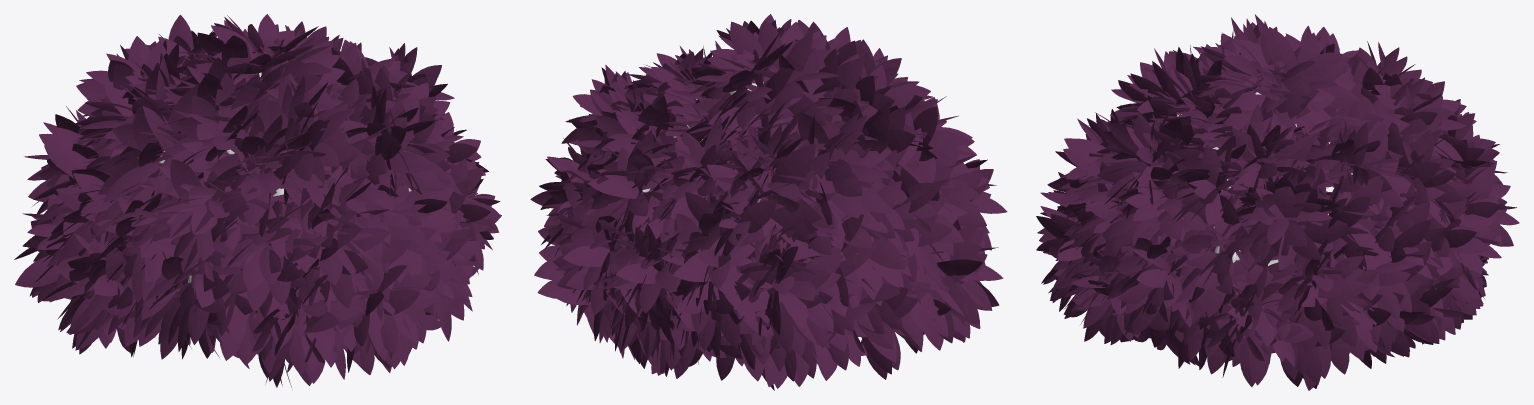
File: พุ่มไม้ม่วง.fbx
3 renders of one model, left to right at view 1: azimuth 30°, elevation 25°; view 2: azimuth 150°, elevation 25°; view 3: azimuth 270°, elevation 25°, orthographic. The views are drawn at different scales.
Visible parts, largest first — view 1: ทรงกลม|Plane.001|Dupli|1525, ทรงกลม|Plane.001|Dupli|1554, ทรงกลม|Plane.001|Dupli|1372, ทรงกลม|Plane.001|Dupli|1454, ทรงกลม|Plane.001|Dupli|552, ทรงกลม|Plane.001|Dupli|565, ทรงกลม|Plane.001|Dupli|634, ทรงกลม|Plane.001|Dupli|620, ทรงกลม|Plane.001|Dupli|1367, ทรงกลม|Plane.001|Dupli|1414, ทรงกลม|Plane.001|Dupli|1380, ทรงกลม|Plane.001|Dupli|1388 (+84 smaller); view 2: ทรงกลม|Plane.001|Dupli|1357, ทรงกลม|Plane.001|Dupli|1439, ทรงกลม|Plane.001|Dupli|1410, ทรงกลม|Plane.001|Dupli|1727, ทรงกลม|Plane.001|Dupli|1246, ทรงกลม|Plane.001|Dupli|1244, ทรงกลม|Plane.001|Dupli|1725, ทรงกลม|Plane.001|Dupli|1723, ทรงกลม|Plane.001|Dupli|1296, ทรงกลม|Plane.001|Dupli|1321, ทรงกลม|Plane.001|Dupli|1434, ทรงกลม|Plane.001|Dupli|1436 (+86 smaller); view 3: ทรงกลม|Plane.001|Dupli|1588, ทรงกลม|Plane.001|Dupli|1212, ทรงกลม|Plane.001|Dupli|319, ทรงกลม|Plane.001|Dupli|1587, ทรงกลม|Plane.001|Dupli|1576, ทรงกลม|Plane.001|Dupli|1672, ทรงกลม|Plane.001|Dupli|1715, ทรงกลม|Plane.001|Dupli|169, ทรงกลม|Plane.001|Dupli|1713, ทรงกลม|Plane.001|Dupli|1230, ทรงกลม|Plane.001|Dupli|1200, ทรงกลม|Plane.001|Dupli|1586 (+79 smaller).
Part boxes in pixels (x1=…): ทรงกลม|Plane.001|Dupli|1525: x1=98, y1=109, x2=184, y2=194; ทรงกลม|Plane.001|Dupli|1554: x1=44, y1=145, x2=90, y2=234; ทรงกลม|Plane.001|Dupli|1372: x1=330, y1=227, x2=390, y2=308; ทรงกลม|Plane.001|Dupli|1454: x1=66, y1=243, x2=130, y2=352; ทรงกลม|Plane.001|Dupli|552: x1=149, y1=159, x2=201, y2=243; ทรงกลม|Plane.001|Dupli|565: x1=112, y1=84, x2=198, y2=189; ทรงกลม|Plane.001|Dupli|634: x1=175, y1=73, x2=260, y2=142; ทรงกลม|Plane.001|Dupli|620: x1=15, y1=194, x2=59, y2=287; ทรงกลม|Plane.001|Dupli|1367: x1=380, y1=274, x2=432, y2=354; ทรงกลม|Plane.001|Dupli|1414: x1=103, y1=157, x2=173, y2=202; ทรงกลม|Plane.001|Dupli|1380: x1=288, y1=300, x2=362, y2=375; ทรงกลม|Plane.001|Dupli|1388: x1=239, y1=174, x2=328, y2=227; ทรงกลม|Plane.001|Dupli|1357: x1=685, y1=192, x2=776, y2=259; ทรงกลม|Plane.001|Dupli|1439: x1=860, y1=180, x2=905, y2=269; ทรงกลม|Plane.001|Dupli|1410: x1=933, y1=135, x2=986, y2=227; ทรงกลม|Plane.001|Dupli|1727: x1=766, y1=33, x2=825, y2=125; ทรงกลม|Plane.001|Dupli|1246: x1=771, y1=147, x2=809, y2=242; ทรงกลม|Plane.001|Dupli|1244: x1=771, y1=269, x2=830, y2=353; ทรงกลม|Plane.001|Dupli|1725: x1=758, y1=20, x2=838, y2=74; ทรงกลม|Plane.001|Dupli|1723: x1=715, y1=21, x2=820, y2=98; ทรงกลม|Plane.001|Dupli|1296: x1=563, y1=245, x2=637, y2=313; ทรงกลม|Plane.001|Dupli|1321: x1=706, y1=155, x2=776, y2=254; ทรงกลม|Plane.001|Dupli|1434: x1=832, y1=115, x2=867, y2=196; ทรงกลม|Plane.001|Dupli|1436: x1=830, y1=149, x2=891, y2=218; ทรงกลม|Plane.001|Dupli|1588: x1=1172, y1=219, x2=1276, y2=317; ทรงกลม|Plane.001|Dupli|1212: x1=1230, y1=177, x2=1347, y2=262; ทรงกลม|Plane.001|Dupli|319: x1=1097, y1=112, x2=1202, y2=182; ทรงกลม|Plane.001|Dupli|1587: x1=1206, y1=301, x2=1314, y2=385; ทรงกลม|Plane.001|Dupli|1576: x1=1319, y1=188, x2=1370, y2=270; ทรงกลม|Plane.001|Dupli|1672: x1=1233, y1=128, x2=1314, y2=163; ทรงกลม|Plane.001|Dupli|1715: x1=1246, y1=32, x2=1360, y2=107; ทรงกลม|Plane.001|Dupli|169: x1=1245, y1=177, x2=1320, y2=268; ทรงกลม|Plane.001|Dupli|1713: x1=1261, y1=30, x2=1342, y2=106; ทรงกลม|Plane.001|Dupli|1230: x1=1469, y1=165, x2=1513, y2=246; ทรงกลม|Plane.001|Dupli|1200: x1=1240, y1=211, x2=1332, y2=244; ทรงกลม|Plane.001|Dupli|1586: x1=1195, y1=283, x2=1302, y2=386.
Bounding box in the file's own units: 273 × 177 × 272.
